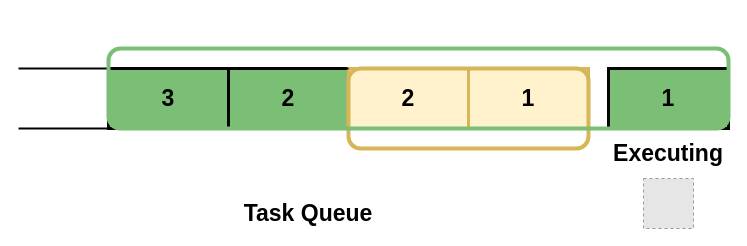
The diagram is 747 pixels wide and 246 high, and some of its shapes have lost their labels. Grey dashed boxes stand in for pictures. Here are the shapes that lost their labels. From the top down, the box of each, then its label:
(106, 46, 730, 130): Latency of task A
(346, 66, 590, 150): Latency of task B
